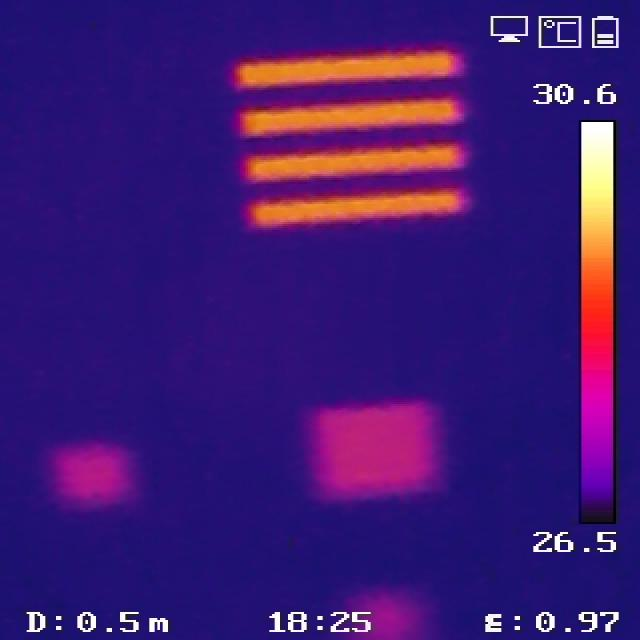Distinguishable 4-bar target: (218, 45, 478, 225), (305, 398, 435, 490)
